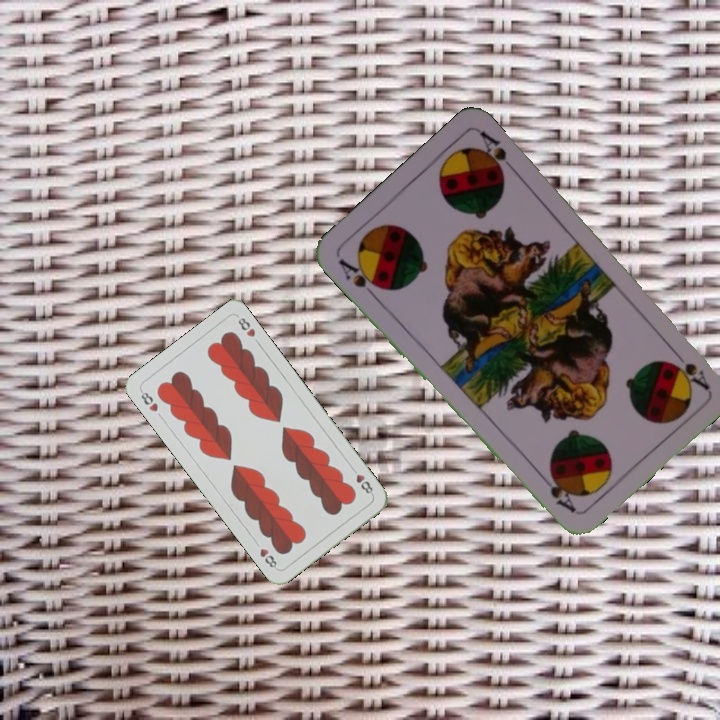H8: (347, 463, 376, 498), (136, 386, 161, 414)
SA: (334, 254, 386, 301), (667, 344, 712, 392)
